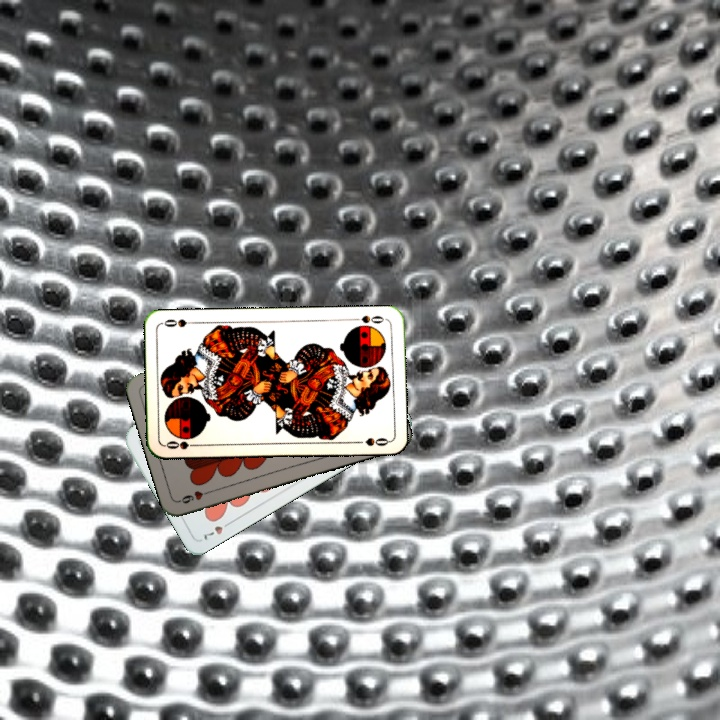H7: (198, 517, 235, 543)
H9: (175, 486, 215, 506)
SO: (162, 437, 202, 452), (348, 311, 388, 326)
